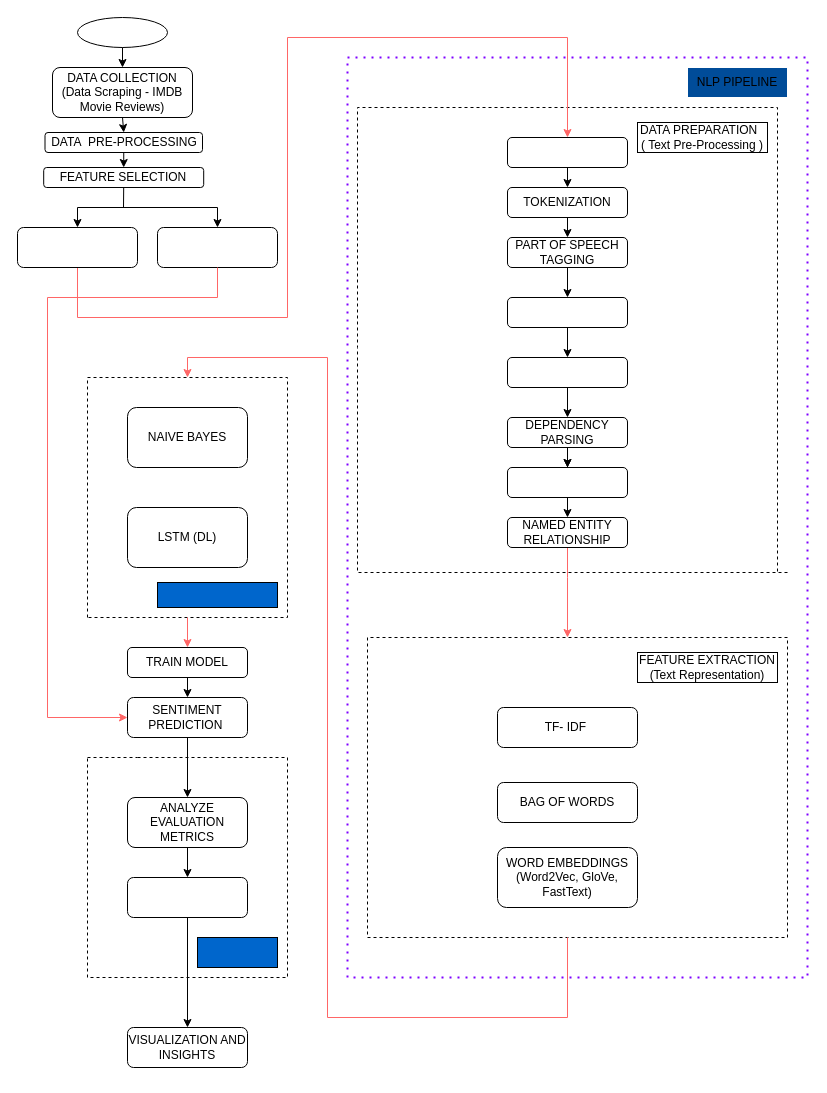
This 827x1093 diagram has some shape labels left out. Each missing label, with the centre of its shape:
"LEMMATIZATION" belongs at point 567,312.
"MODEL EVALUATION" belongs at point 237,952.
"MODEL SELECTION" belongs at point 217,595.
"NOUN PHRASES" belongs at point 567,482.
"PERFORMANCE COMPARISION" belongs at point 187,897.
"REMOVING STOP WORDS" belongs at point 567,372.
"SENTENCE SEGMENTATION" belongs at point 567,152.
"START" belongs at point 122,32.
"TESTING DATA" belongs at point 217,247.
"TRAINING DATA" belongs at point 77,247.
